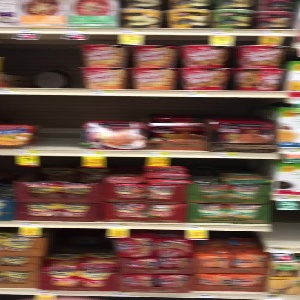void: (1, 36, 86, 91), (30, 93, 83, 150)
